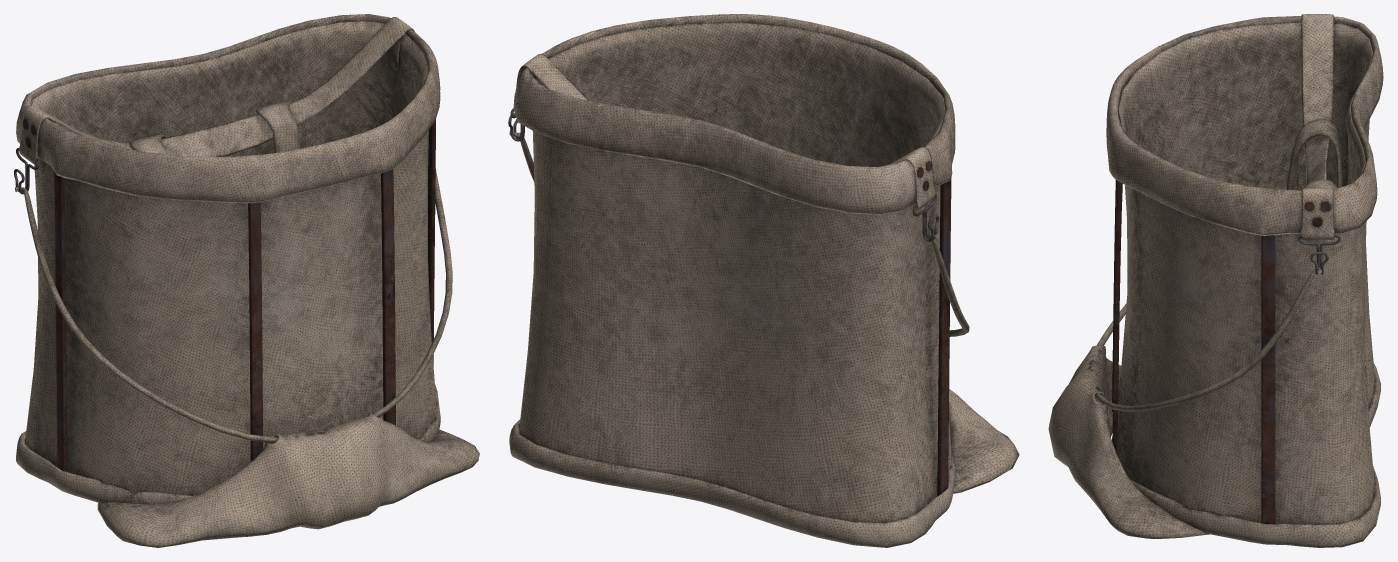
The model's file is apple_picking_bag.fbx.
The picture shows the model from 3 angles, left to right: view 1: azimuth 30°, elevation 25°; view 2: azimuth 150°, elevation 25°; view 3: azimuth 270°, elevation 25°; orthographic projection. The views are drawn at different scales.
Visible parts, largest first — view 1: apple_picking_bag; view 2: apple_picking_bag; view 3: apple_picking_bag.
Boxes of the visible parts, left/top/right/bottom form: apple_picking_bag: left=14, top=14, right=479, bottom=547; apple_picking_bag: left=508, top=14, right=1019, bottom=547; apple_picking_bag: left=1048, top=14, right=1383, bottom=547.
Bounding box in the file's own units: 115 × 98.01 × 83.06.
Materials: 1 (1 with a texture image).
